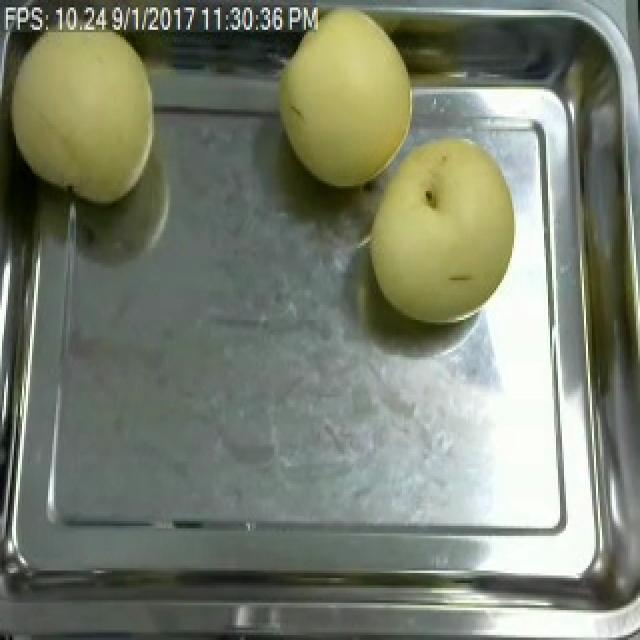Fruit: (356, 126, 524, 332), (0, 5, 166, 211), (266, 5, 422, 196)
